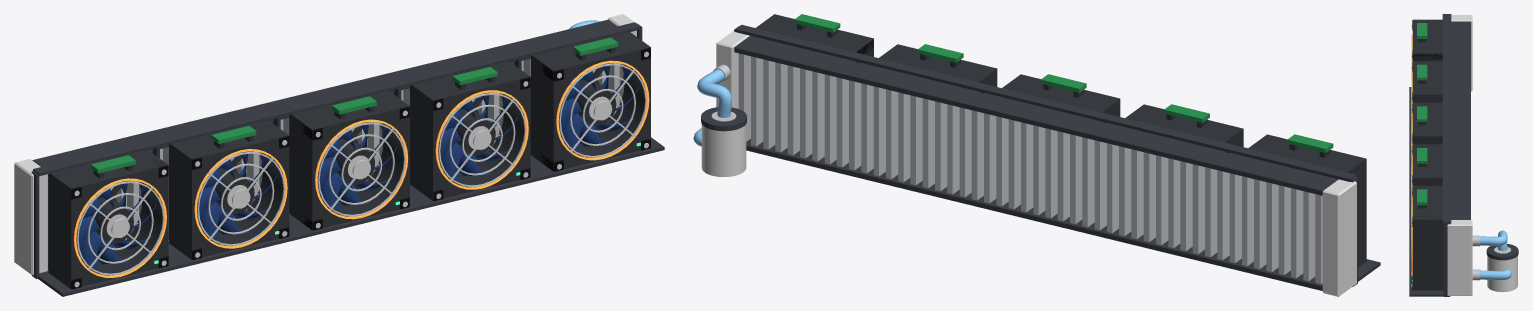
Rendered from hwm_cool_custom_loop.glb.
The picture shows the model from 3 angles, left to right: view 1: azimuth 30°, elevation 25°; view 2: azimuth 150°, elevation 25°; view 3: azimuth 270°, elevation 25°; orthographic projection. The views are drawn at different scales.
Parts seen in each view (by area): view 1: Body, Rotor_Z_1, Rotor_Z_3, Rotor_Z_4, Rotor_Z_2, Rotor_Z_0; view 2: Body, Flow_0; view 3: Body, Flow_0, Flow_1.
Boxes of the visible parts, <box> form: Body: <box>14,14,664,296</box>; Rotor_Z_1: <box>197,151,277,240</box>; Rotor_Z_3: <box>438,92,518,181</box>; Rotor_Z_4: <box>558,63,638,151</box>; Rotor_Z_2: <box>317,122,397,210</box>; Rotor_Z_0: <box>76,181,156,269</box>; Body: <box>701,14,1380,296</box>; Flow_0: <box>697,69,731,117</box>; Body: <box>1409,14,1518,296</box>; Flow_0: <box>1480,230,1507,250</box>; Flow_1: <box>1480,270,1511,280</box>.
Size of the model in its own units: 0.582 by 0.1033 by 0.1276.
